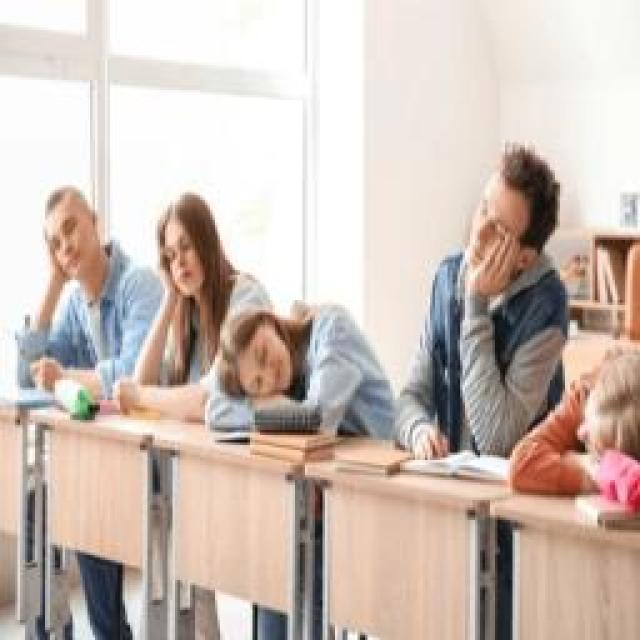sleep: (408, 145, 568, 447), (125, 195, 270, 420), (18, 182, 160, 398), (205, 302, 390, 438), (510, 340, 640, 502)
